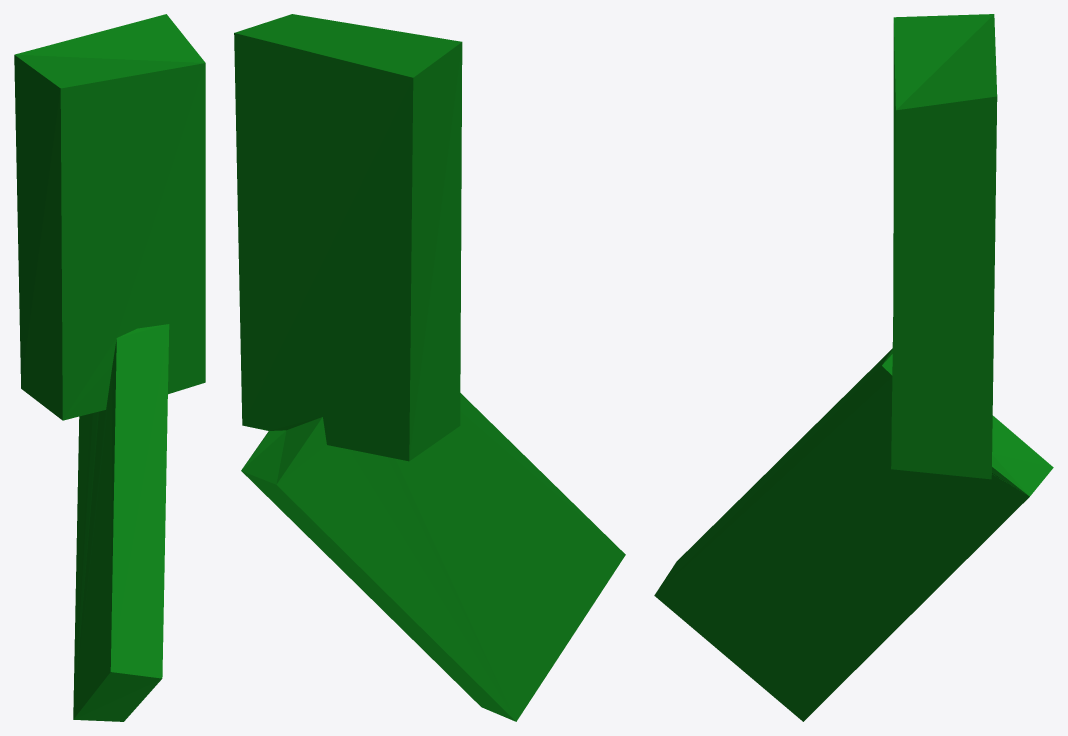
The picture shows the model from 3 angles, left to right: view 1: azimuth 30°, elevation 25°; view 2: azimuth 150°, elevation 25°; view 3: azimuth 270°, elevation 25°; orthographic projection. The views are drawn at different scales.
Parts seen in each view (by area): view 1: 964_Cube.3900; view 2: 964_Cube.3900; view 3: 964_Cube.3900.
Part boxes in pixels (x1,y1,x2,y2): 964_Cube.3900: (14, 14, 205, 721); 964_Cube.3900: (234, 14, 625, 721); 964_Cube.3900: (654, 14, 1053, 721).
Bounding box in the file's own units: 7.47 × 22.23 × 11.56.
